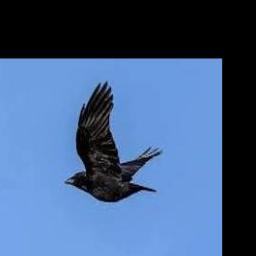Crow: (65, 81, 162, 201)
